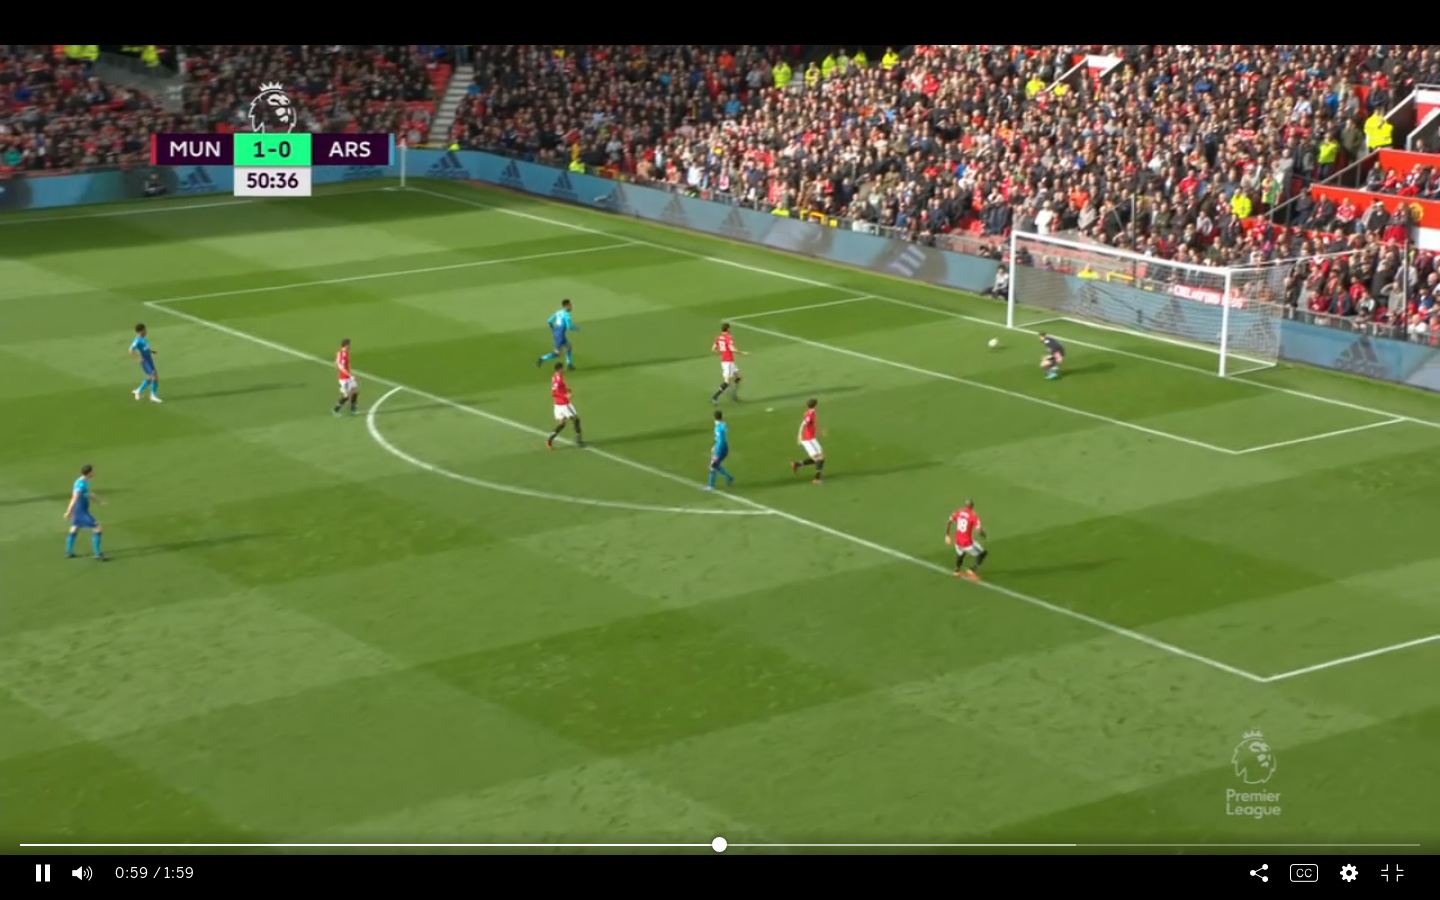soccer player: (59, 460, 116, 566), (938, 497, 1001, 586), (545, 359, 592, 457), (788, 397, 832, 492), (707, 316, 747, 406), (127, 316, 167, 403), (547, 294, 587, 376), (704, 405, 738, 494), (333, 334, 362, 419), (1032, 326, 1072, 382)
soccerball: (982, 331, 1004, 356)
